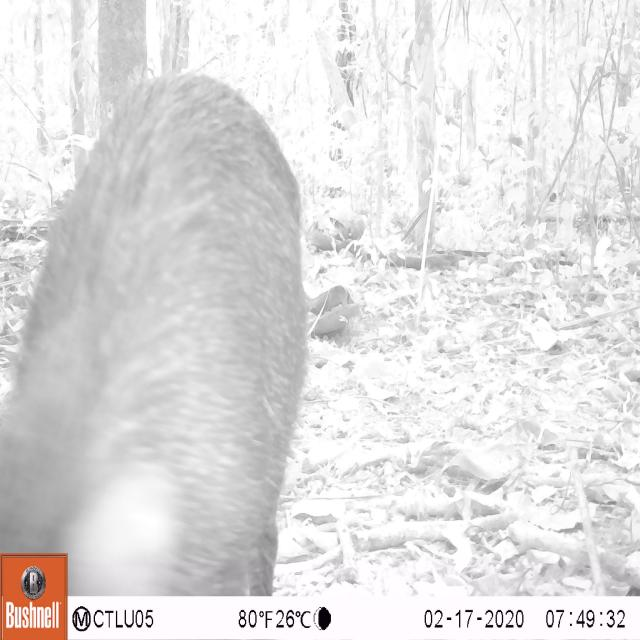White-lipped Peccary: (0, 64, 307, 594)
